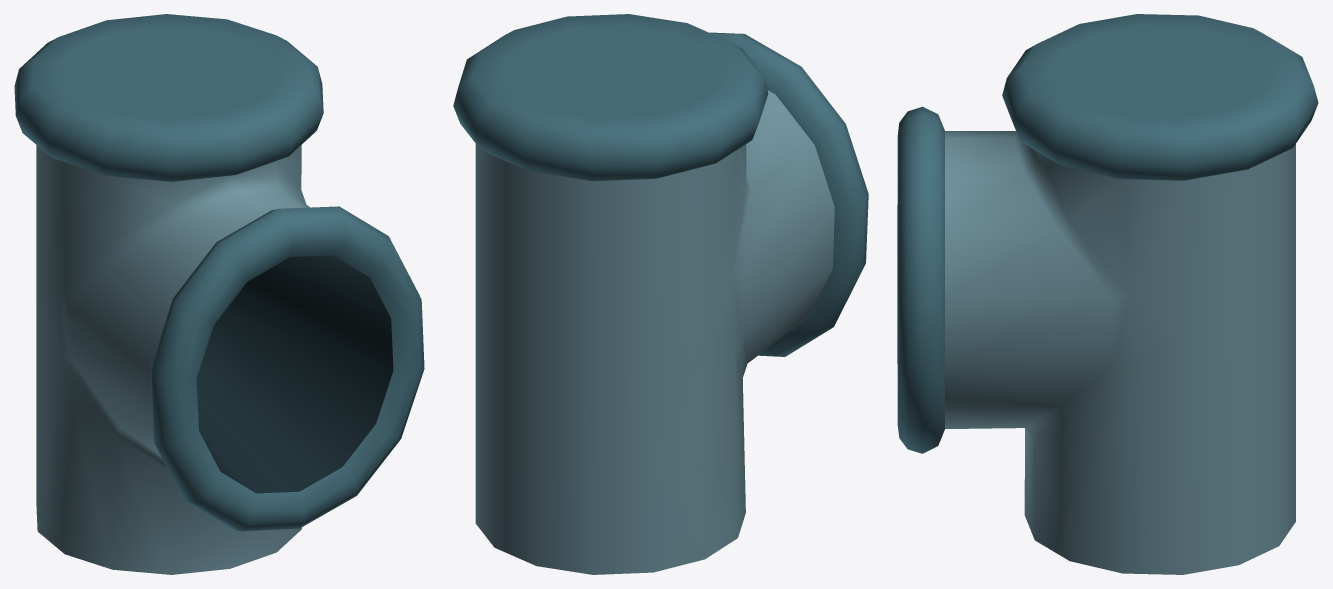
File: Pipe.fbx
3 views of the same model, side by side, from view 1: azimuth 30°, elevation 25°; view 2: azimuth 150°, elevation 25°; view 3: azimuth 270°, elevation 25° (orthographic).
Parts seen in each view (by area): view 1: Pipe; view 2: Pipe; view 3: Pipe.
Boxes of the visible parts, x1,y1,x2,y2 form: Pipe: [14, 14, 424, 574]; Pipe: [453, 14, 868, 574]; Pipe: [897, 14, 1318, 574].
Size of the model in its own units: 0.6664 by 1.05 by 0.8969.
